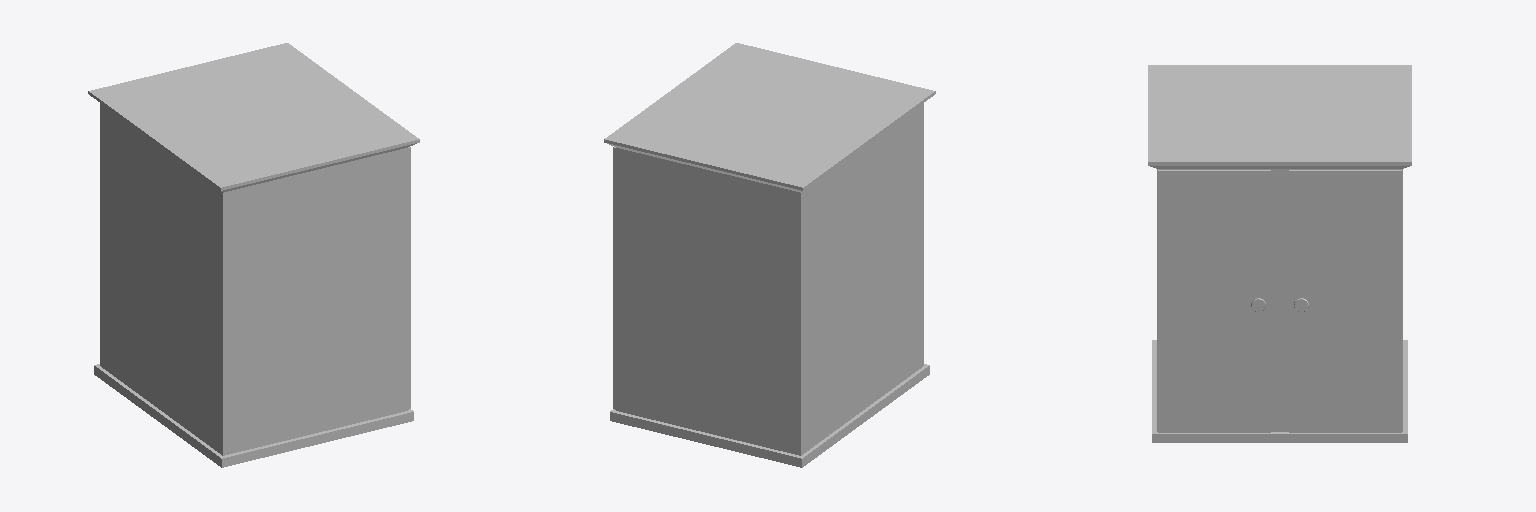
Rendered from mini cupboard.obj.
The picture shows the model from 3 angles: view 1: azimuth 30°, elevation 25°; view 2: azimuth 150°, elevation 25°; view 3: azimuth 270°, elevation 25°; orthographic projection.
Parts seen in each view (by area): view 1: Cube; view 2: Cube; view 3: Cube.
Boxes of the visible parts, x1,y1,x2,y2 form: Cube: [88, 43, 419, 467]; Cube: [604, 43, 935, 467]; Cube: [1148, 65, 1411, 442].
Size of the model in its own units: 2.19 by 2.92 by 2.47.